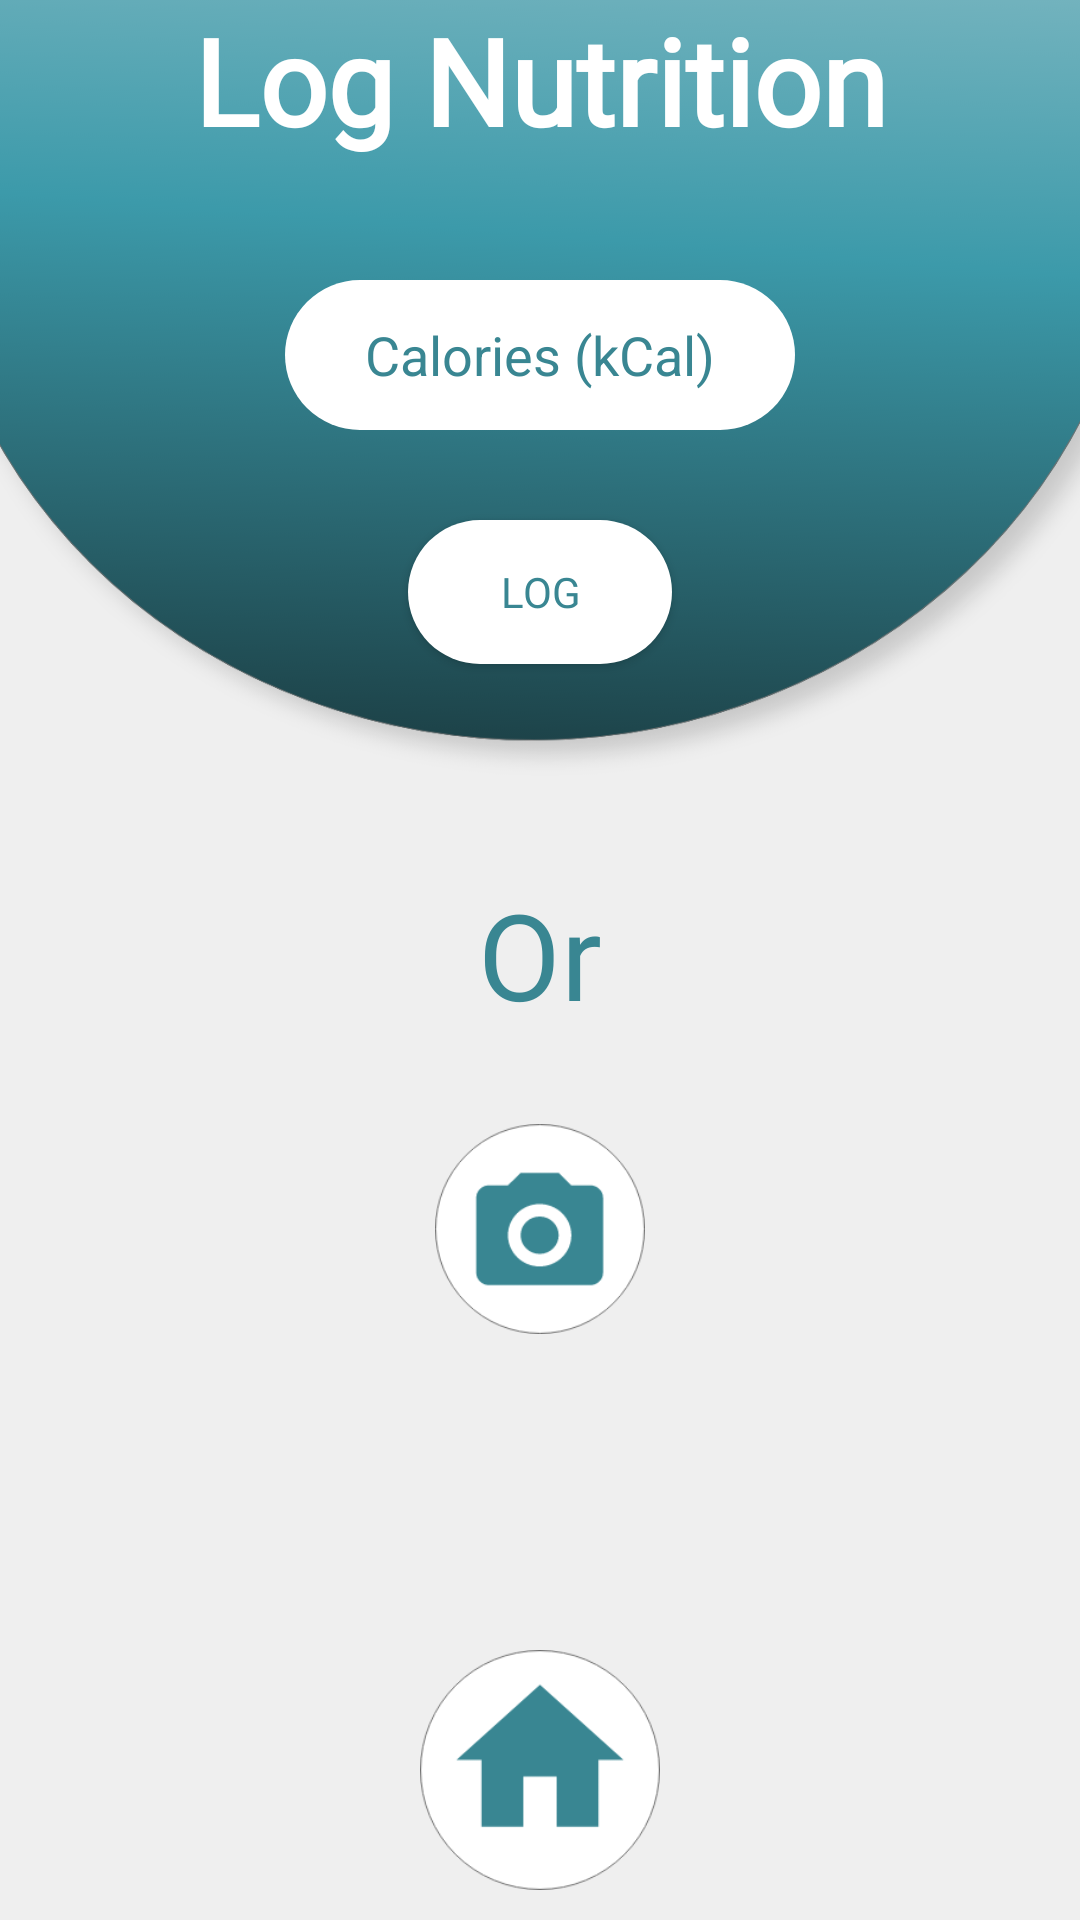

Where to tap for icons on this 1080x1920 app screen, as point (x, y):
camera: point (540, 1229)
home: point (540, 1770)
